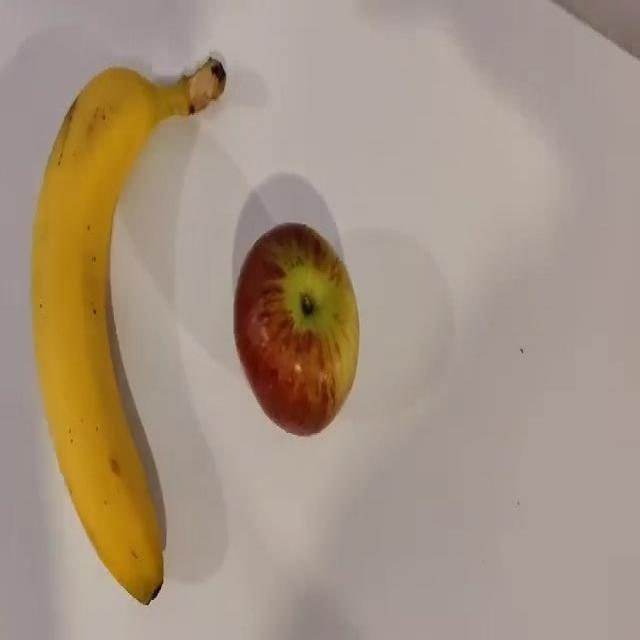Apple: (233, 221, 360, 436)
Banana: (30, 54, 226, 605)
